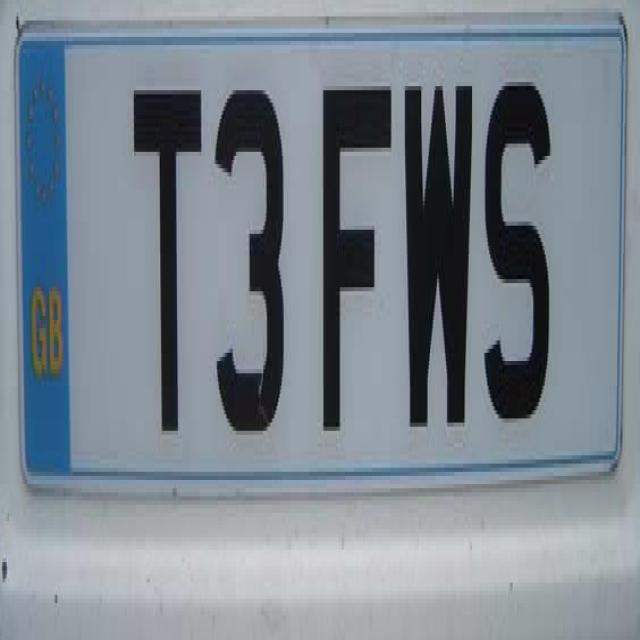Autre: (17, 33, 624, 475)
